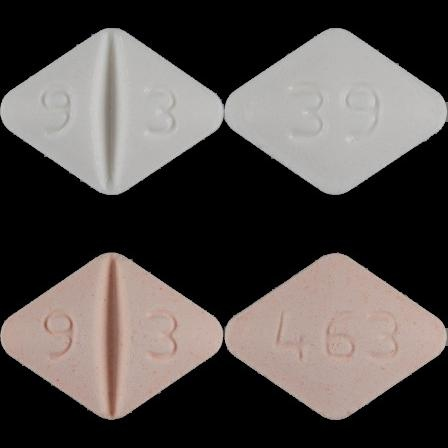55154-8274: (0, 0, 224, 224)
